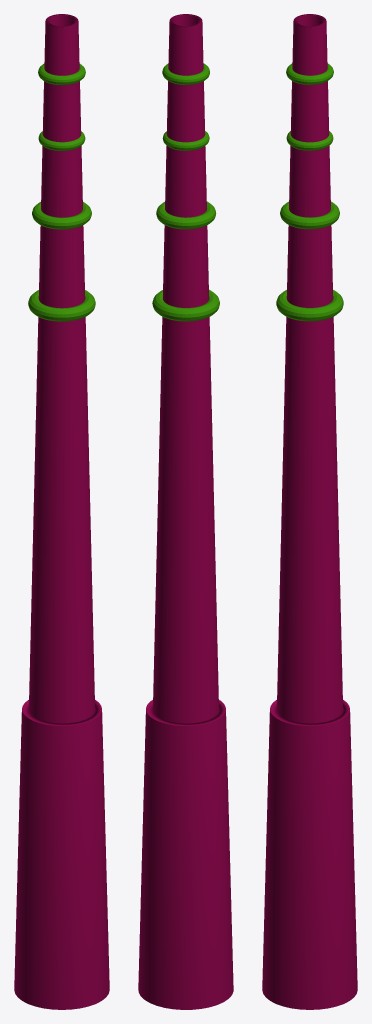
Rendered from Fırlatma aracı .fbx.
3 renders of one model, left to right at view 1: azimuth 90°, elevation 25°; view 2: azimuth 210°, elevation 25°; view 3: azimuth 270°, elevation 25°, orthographic.
Visible parts, largest first — view 1: Cylinder.001, Torus.018, Torus.017, Torus.028, Torus.016; view 2: Cylinder.001, Torus.018, Torus.017, Torus.028, Torus.016; view 3: Cylinder.001, Torus.018, Torus.017, Torus.028, Torus.016.
Part boxes in pixels (bbox=[...]): Cylinder.001: bbox=[14, 14, 109, 1009]; Torus.018: bbox=[28, 290, 95, 321]; Torus.017: bbox=[32, 202, 91, 229]; Torus.028: bbox=[38, 64, 85, 85]; Torus.016: bbox=[38, 131, 85, 150]; Cylinder.001: bbox=[138, 14, 233, 1009]; Torus.018: bbox=[152, 289, 219, 321]; Torus.017: bbox=[156, 201, 216, 229]; Torus.028: bbox=[162, 63, 209, 84]; Torus.016: bbox=[162, 131, 209, 150]; Cylinder.001: bbox=[262, 14, 357, 1009]; Torus.018: bbox=[276, 290, 343, 321]; Torus.017: bbox=[280, 201, 339, 229]; Torus.028: bbox=[286, 63, 333, 84]; Torus.016: bbox=[286, 131, 333, 150].
Size of the model in its own units: 27.33 by 306 by 27.33.
